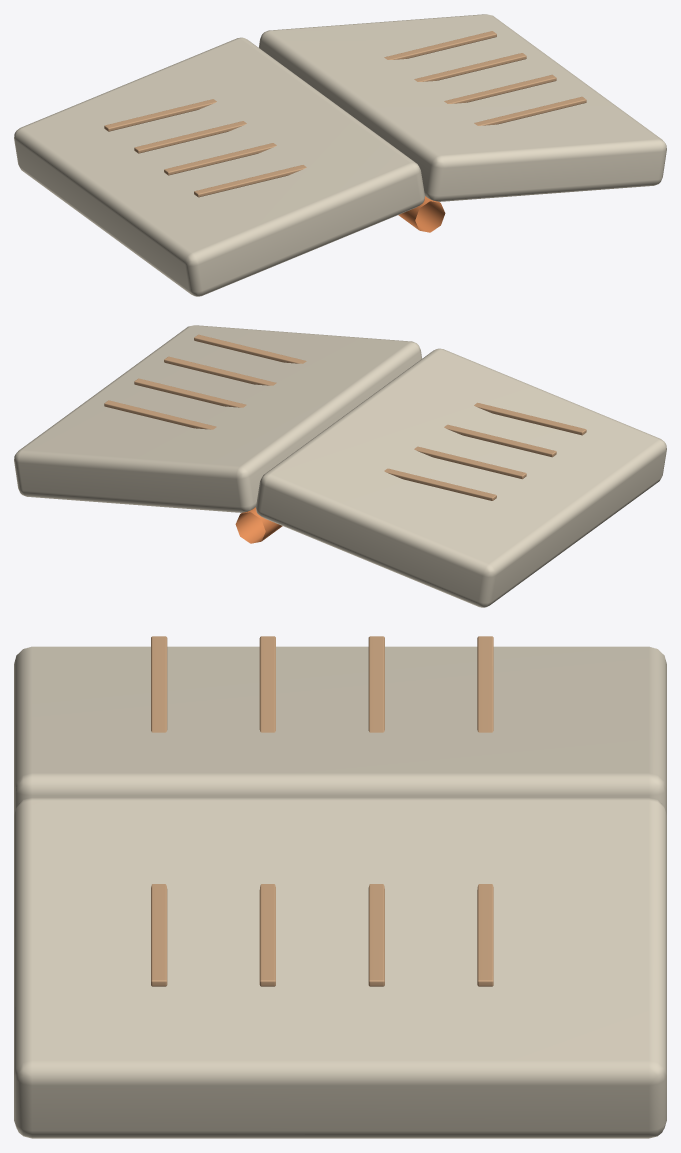
The model's file is word-book.glb.
The picture shows the model from 3 angles, top to bottom: view 1: azimuth 30°, elevation 25°; view 2: azimuth 150°, elevation 25°; view 3: azimuth 270°, elevation 25°; orthographic projection. The views are drawn at different scales.
Parts seen in each view (by area): view 1: open book, open book.001, book spine, printed line.002, printed line, printed line.003, printed line.001, printed line.004, printed line.005, printed line.006, printed line.007; view 2: open book, open book.001, book spine, printed line, printed line.001, printed line.003, printed line.002, printed line.007, printed line.004, printed line.006, printed line.005; view 3: open book.001, open book, printed line.006, printed line.007, printed line.004, printed line.005, printed line.002, printed line.003, printed line, printed line.001.
Boxes of the visible parts, x1,y1,x2,y2 form: open book: (14, 37, 424, 296); open book.001: (259, 14, 666, 201); book spine: (398, 196, 445, 232); printed line.002: (134, 121, 246, 153); printed line: (194, 165, 306, 197); printed line.003: (104, 99, 216, 131); printed line.001: (164, 143, 276, 175); printed line.004: (474, 96, 586, 125); printed line.005: (444, 74, 556, 103); printed line.006: (414, 53, 526, 81); printed line.007: (384, 31, 496, 59); open book: (256, 348, 666, 607); open book.001: (14, 325, 421, 512); book spine: (235, 507, 282, 543); printed line: (474, 402, 586, 435); printed line.001: (444, 424, 556, 457); printed line.003: (384, 468, 496, 500); printed line.002: (414, 446, 526, 479); printed line.007: (104, 400, 216, 429); printed line.004: (194, 334, 306, 363); printed line.006: (134, 378, 246, 407); printed line.005: (164, 356, 276, 385); open book.001: (14, 797, 666, 1138); open book: (14, 646, 666, 814); printed line.006: (368, 884, 384, 986); printed line.007: (477, 884, 493, 986); printed line.004: (151, 884, 167, 986); printed line.005: (259, 884, 275, 986); printed line.002: (368, 636, 384, 732); printed line.003: (477, 636, 493, 732); printed line: (151, 636, 167, 732); printed line.001: (259, 636, 275, 732).
Size of the model in its own units: 1.11 by 0.18 by 0.72.
